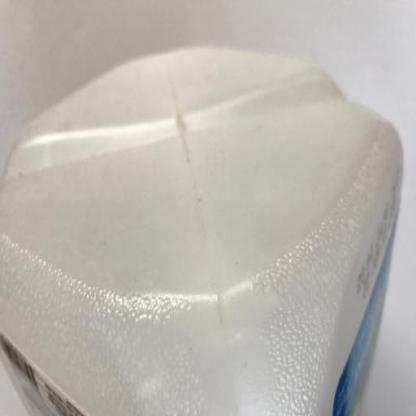Plastic: (0, 48, 404, 415)
